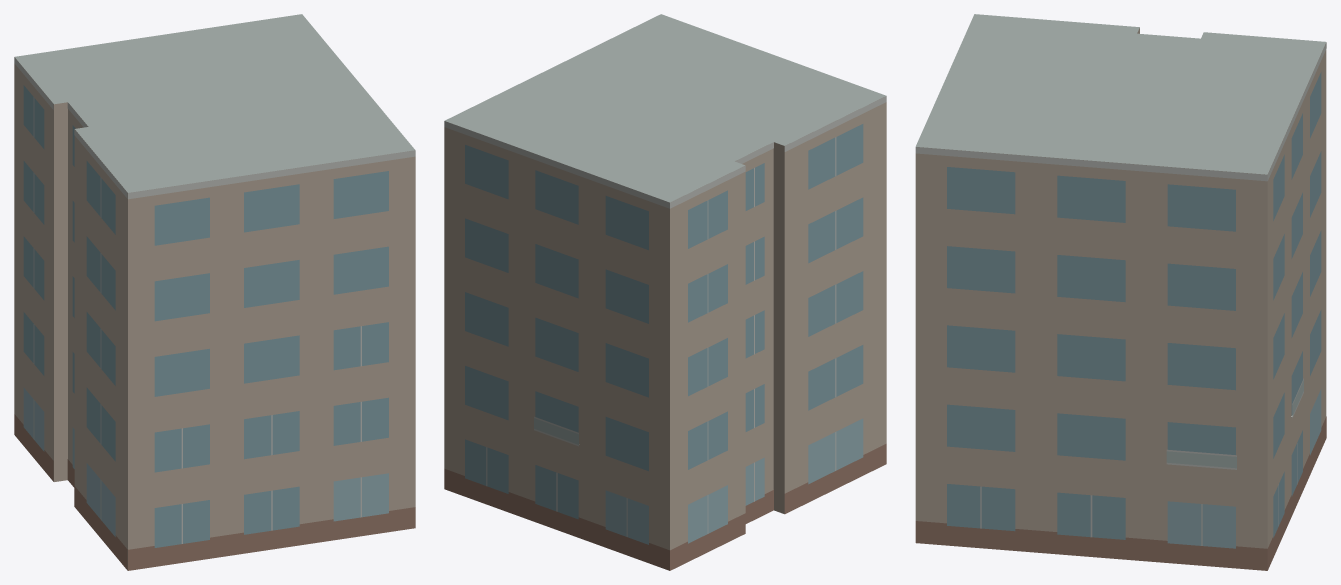
Rendered from survey-upis-32995821.glb.
The picture shows the model from 3 angles, left to right: view 1: azimuth 30°, elevation 25°; view 2: azimuth 150°, elevation 25°; view 3: azimuth 270°, elevation 25°; orthographic projection. The views are drawn at different scales.
Parts seen in each view (by area): view 1: survey-upis-32995821.tmp; view 2: survey-upis-32995821.tmp; view 3: survey-upis-32995821.tmp.
Boxes of the visible parts, left/top/right/bottom form: survey-upis-32995821.tmp: left=14, top=14, right=415, bottom=570; survey-upis-32995821.tmp: left=444, top=14, right=886, bottom=570; survey-upis-32995821.tmp: left=915, top=14, right=1326, bottom=570.
Bounding box in the file's own units: 12.62 × 14.5 × 13.64.
